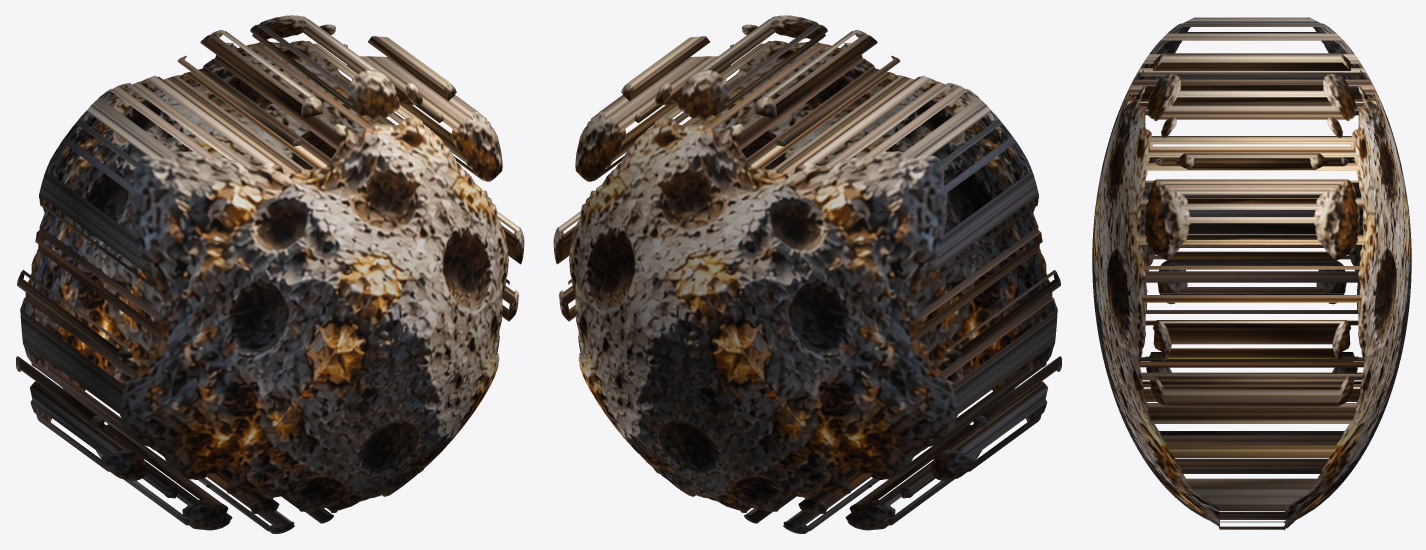
3 renders of one model, left to right at view 1: azimuth 30°, elevation 25°; view 2: azimuth 150°, elevation 25°; view 3: azimuth 270°, elevation 25°, orthographic. The views are drawn at different scales.
Parts seen in each view (by area): view 1: planets:1; view 2: planets:1; view 3: planets:1.
Part boxes in pixels (<box>): planets:1: <box>16,15,524,533</box>; planets:1: <box>553,15,1061,533</box>; planets:1: <box>1092,17,1411,530</box>.
Bounding box in the file's own units: 0.9788 × 0.9574 × 0.6599.
1 material, 1 textured.
